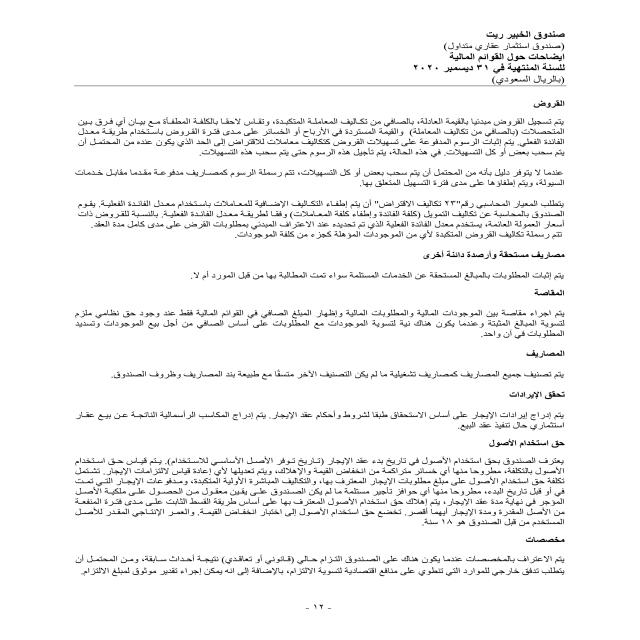notes: (444, 52, 568, 65)
text: (39, 95, 571, 582)
